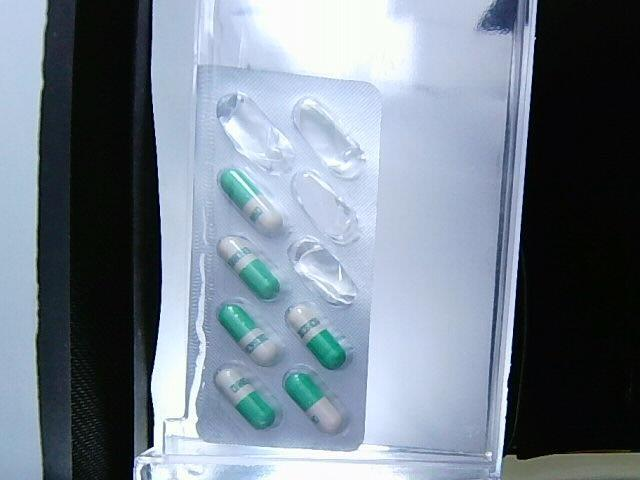Light Front: (188, 65, 381, 449)
No Pill Front: (216, 91, 294, 170), (293, 98, 366, 178), (291, 171, 359, 244), (288, 236, 356, 303)
Pill Front: (219, 169, 284, 236), (283, 365, 344, 433), (285, 305, 345, 369), (218, 304, 279, 365), (218, 238, 279, 299), (215, 369, 275, 429)
